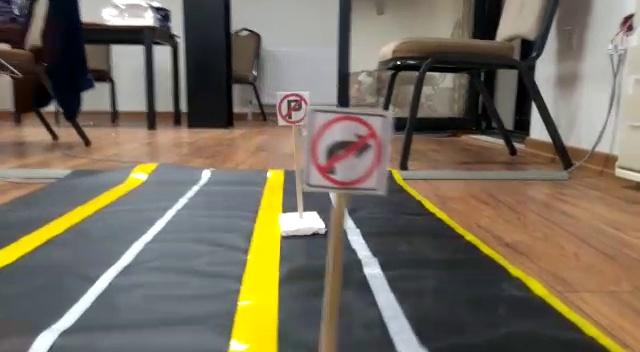park_yapilmaz: (276, 92, 310, 124)
saga_donulmez: (311, 113, 383, 187)
